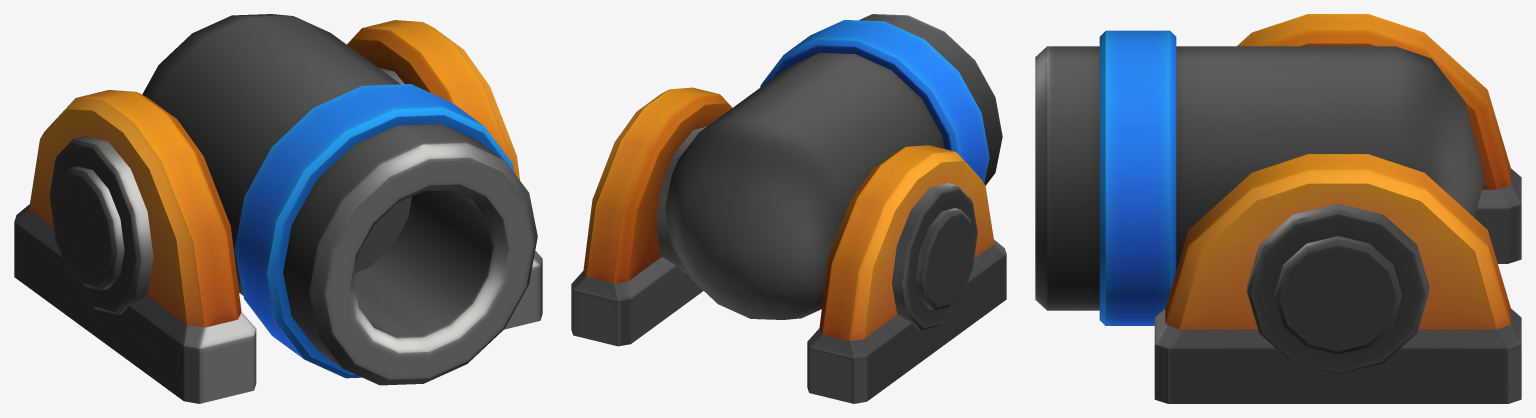
File: upper_cannon.fbx
3 views of the same model, side by side, from view 1: azimuth 30°, elevation 25°; view 2: azimuth 150°, elevation 25°; view 3: azimuth 270°, elevation 25° (orthographic). The views are drawn at different scales.
Visible parts, largest first — view 1: Cylinder.023, Cylinder.020; view 2: Cylinder.023, Cylinder.020; view 3: Cylinder.023, Cylinder.020.
Boxes of the visible parts, bbox=[...] form: Cylinder.023: bbox=[49, 14, 537, 385]; Cylinder.020: bbox=[14, 20, 542, 403]; Cylinder.023: bbox=[656, 14, 1002, 330]; Cylinder.020: bbox=[571, 87, 1006, 403]; Cylinder.023: bbox=[1035, 30, 1484, 374]; Cylinder.020: bbox=[1154, 14, 1521, 403].
Size of the model in its own units: 263 by 174 by 283.
